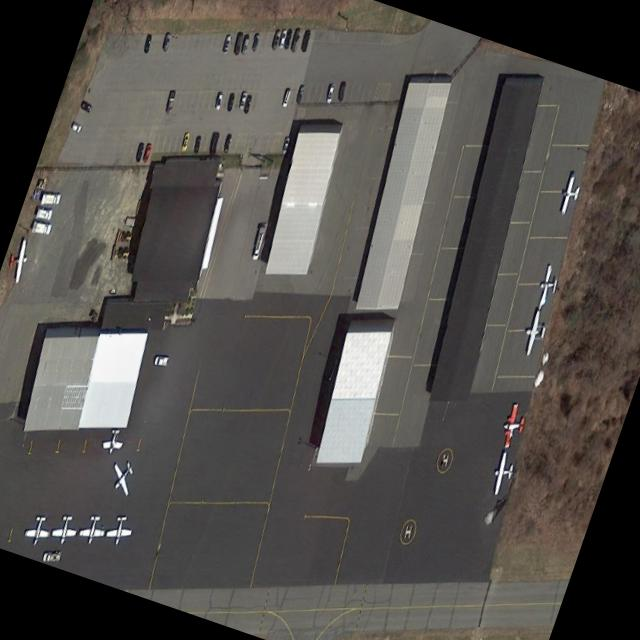large-vehicle: (251, 223, 266, 260), (29, 220, 50, 235), (33, 206, 51, 221), (37, 193, 60, 204)
plane: (107, 451, 137, 504), (519, 311, 548, 355), (498, 404, 527, 448), (533, 264, 560, 310), (488, 451, 516, 495), (4, 238, 28, 285), (555, 175, 582, 215), (49, 515, 79, 545), (21, 516, 52, 545), (76, 515, 107, 544), (103, 517, 133, 546), (99, 430, 124, 455)
small-vehicle: (288, 28, 301, 52), (164, 89, 176, 114), (231, 31, 243, 56), (206, 133, 219, 156), (248, 32, 260, 54), (132, 140, 143, 163), (178, 133, 190, 154), (140, 143, 151, 165), (323, 83, 334, 104), (151, 355, 168, 368), (40, 553, 60, 564), (269, 30, 280, 50), (221, 132, 231, 154), (336, 82, 346, 103), (300, 31, 310, 52), (141, 34, 151, 55), (279, 137, 289, 157), (191, 135, 201, 155), (236, 91, 246, 111), (77, 99, 91, 113), (67, 120, 81, 134), (280, 88, 290, 107), (239, 35, 249, 54), (224, 93, 234, 112), (282, 29, 291, 50), (294, 85, 304, 103), (159, 33, 169, 51), (221, 34, 230, 54), (242, 94, 251, 114), (213, 93, 222, 111), (278, 30, 286, 49)
